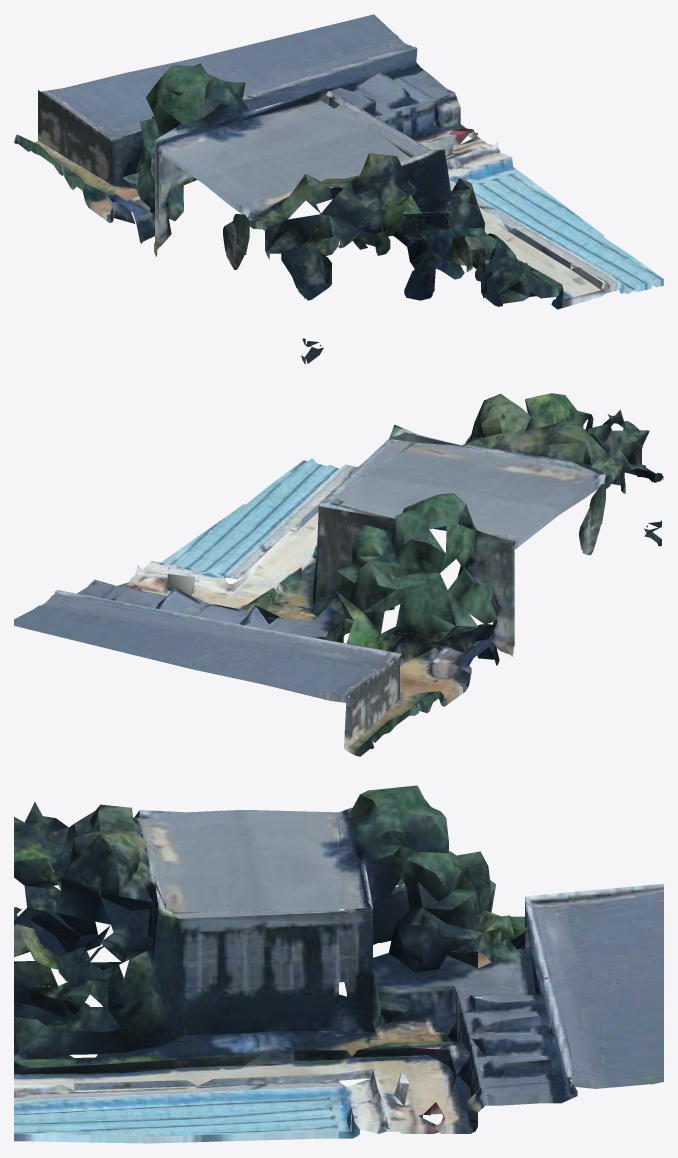
3 renders of one model, top to bottom at view 1: azimuth 30°, elevation 25°; view 2: azimuth 150°, elevation 25°; view 3: azimuth 270°, elevation 25°, orthographic. The views are drawn at different scales.
Parts seen in each view (by area): view 1: 3043627270436153553_0; view 2: 3043627270436153553_0; view 3: 3043627270436153553_0.
Part boxes in pixels (bbox=[...]): 3043627270436153553_0: bbox=[14, 14, 663, 364]; 3043627270436153553_0: bbox=[14, 393, 663, 756]; 3043627270436153553_0: bbox=[14, 785, 663, 1143].
Size of the model in its own units: 54.94 by 25.27 by 76.52.
1 material, 1 textured.
